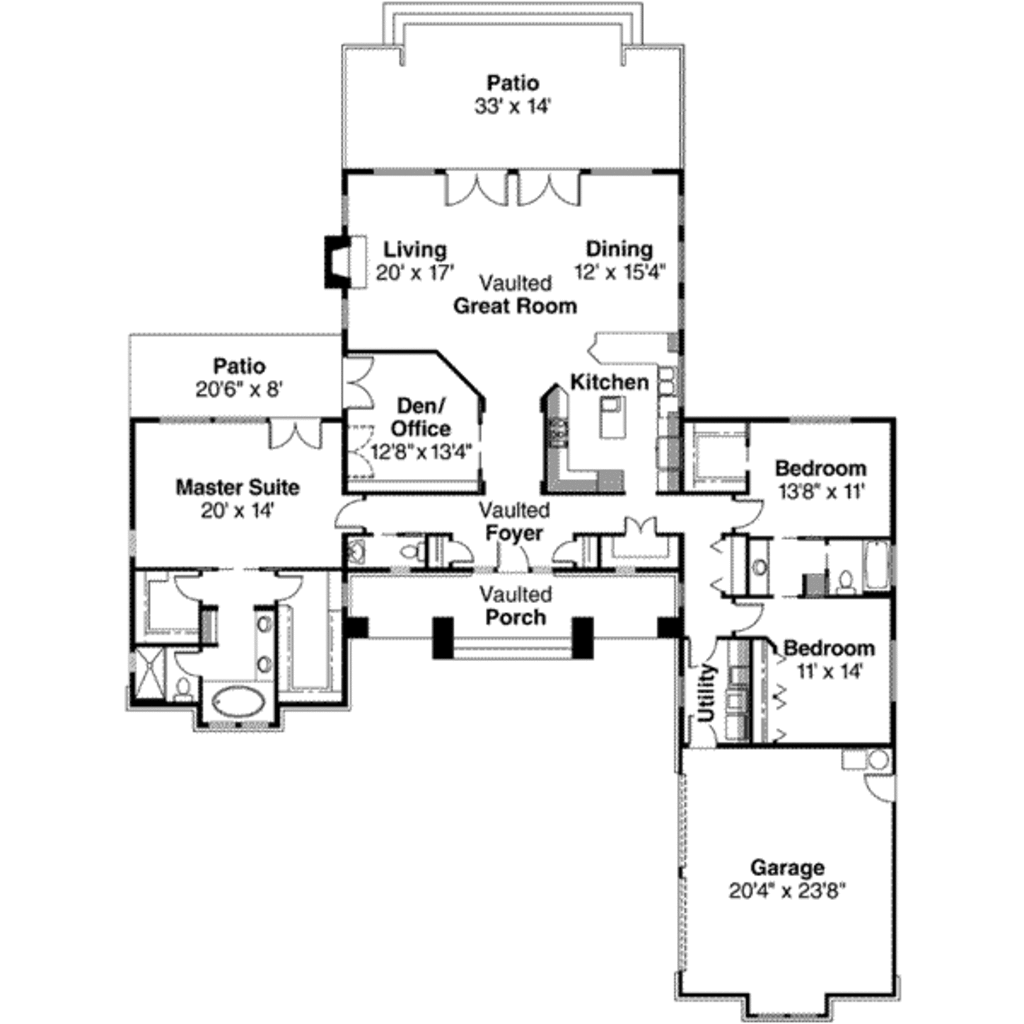door: (509, 158, 589, 205), (441, 166, 514, 210), (258, 413, 321, 458), (337, 420, 377, 484), (488, 531, 533, 577), (676, 634, 729, 673), (724, 493, 766, 538), (342, 355, 374, 413), (329, 491, 375, 530), (268, 565, 307, 606), (169, 564, 206, 604), (734, 599, 770, 639), (170, 644, 209, 679), (539, 532, 579, 565), (618, 508, 657, 540), (448, 528, 473, 576), (866, 771, 897, 807), (690, 707, 717, 748)
large_sink: (397, 533, 429, 568), (834, 560, 857, 593)
small_sink: (255, 612, 281, 678), (750, 539, 775, 597), (345, 533, 372, 572)
tub: (203, 686, 279, 725), (861, 542, 894, 591)
twin_sink: (648, 361, 691, 404)
